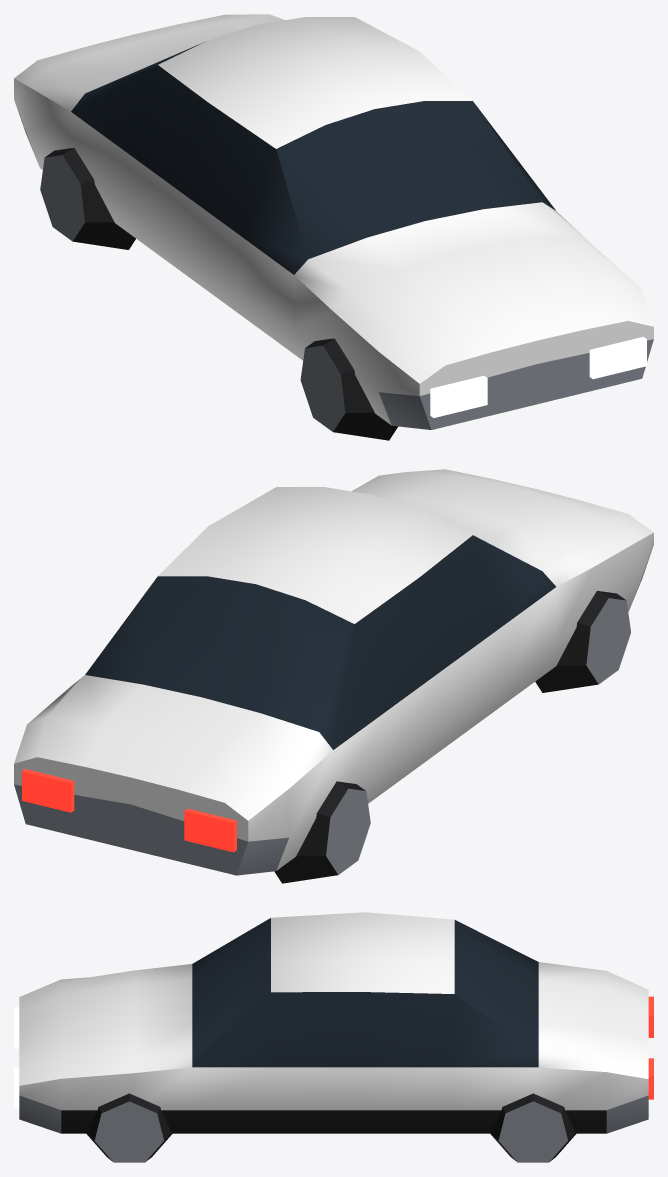
The model's file is sedan.glb.
3 renders of one model, top to bottom at view 1: azimuth 30°, elevation 25°; view 2: azimuth 150°, elevation 25°; view 3: azimuth 270°, elevation 25°, orthographic. The views are drawn at different scales.
Visible parts, largest first — view 1: body; view 2: body; view 3: body.
Part boxes in pixels (box(x1,y1,x2,y2)): body: box(14, 14, 653, 440); body: box(14, 469, 653, 883); body: box(14, 912, 653, 1162).
Bounding box in the file's own units: 2.44 × 1.92 × 6.1.
